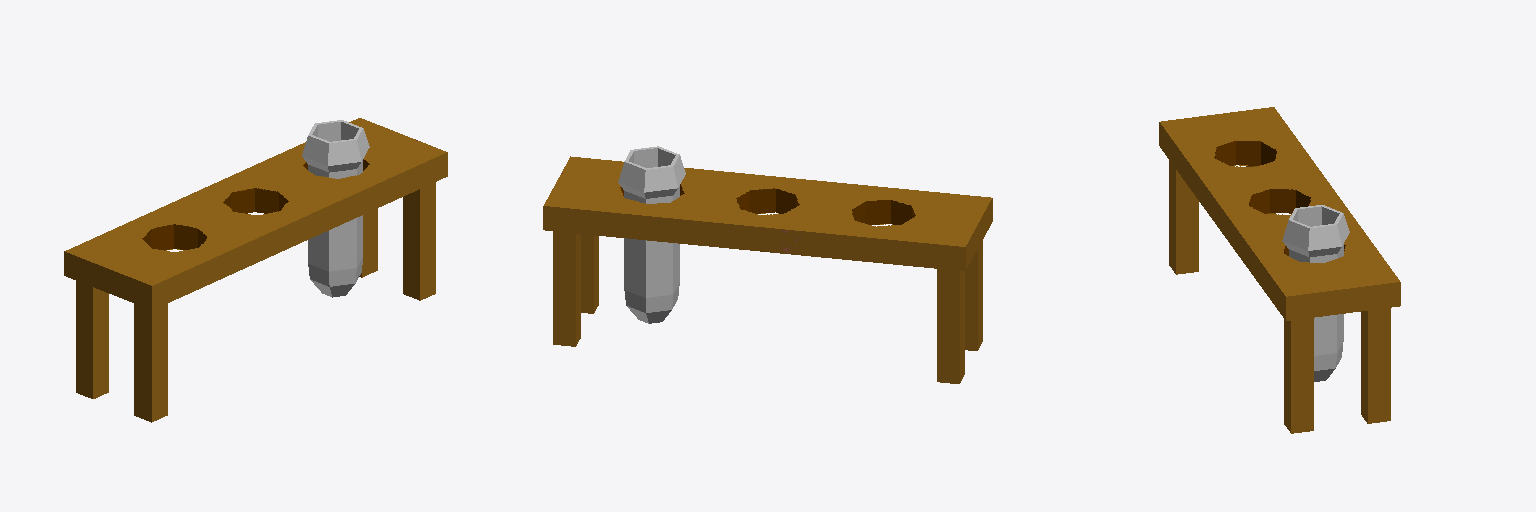
3 renders of one model, left to right at view 1: azimuth 30°, elevation 25°; view 2: azimuth 150°, elevation 25°; view 3: azimuth 270°, elevation 25°, orthographic.
Visible parts, largest first — view 1: Pociones.002; view 2: Pociones.002; view 3: Pociones.002.
Part boxes in pixels (x1,y1,x2,y2): Pociones.002: (64, 118, 447, 422); Pociones.002: (543, 146, 992, 383); Pociones.002: (1159, 107, 1400, 433).
Size of the model in its own units: 2.16 by 0.9255 by 1.16.
Materials: 2 (1 with a texture image).